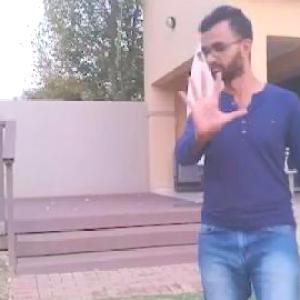follow_hand: (177, 64, 249, 142)
